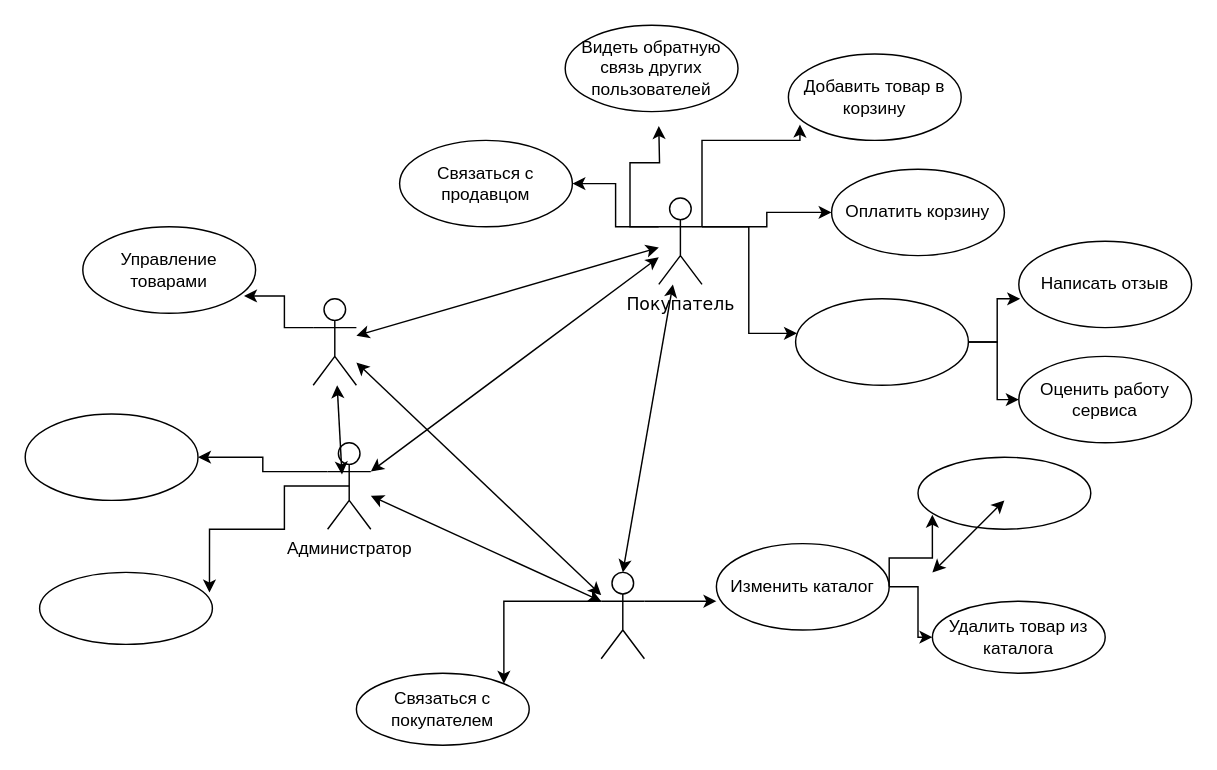
The diagram is 1217 pixels wide and 770 high, and some of its shapes have lost their labels. The box of each missing label's shape, as (x1, y1, x2, y2) in pixels:
Анализ продаж: (38, 571, 212, 644)
Добавить товар в каталог: (917, 456, 1091, 529)
менеджер: (312, 297, 356, 385)
Оставить обратную связь: (794, 297, 968, 385)
Продавец: (600, 571, 644, 659)
Управление всеми пользователями: (24, 413, 198, 500)
